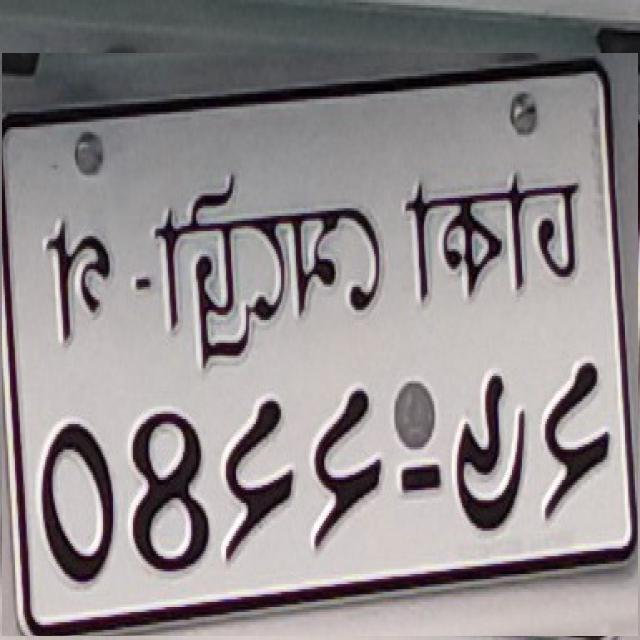numberplate: (2, 53, 638, 636)
